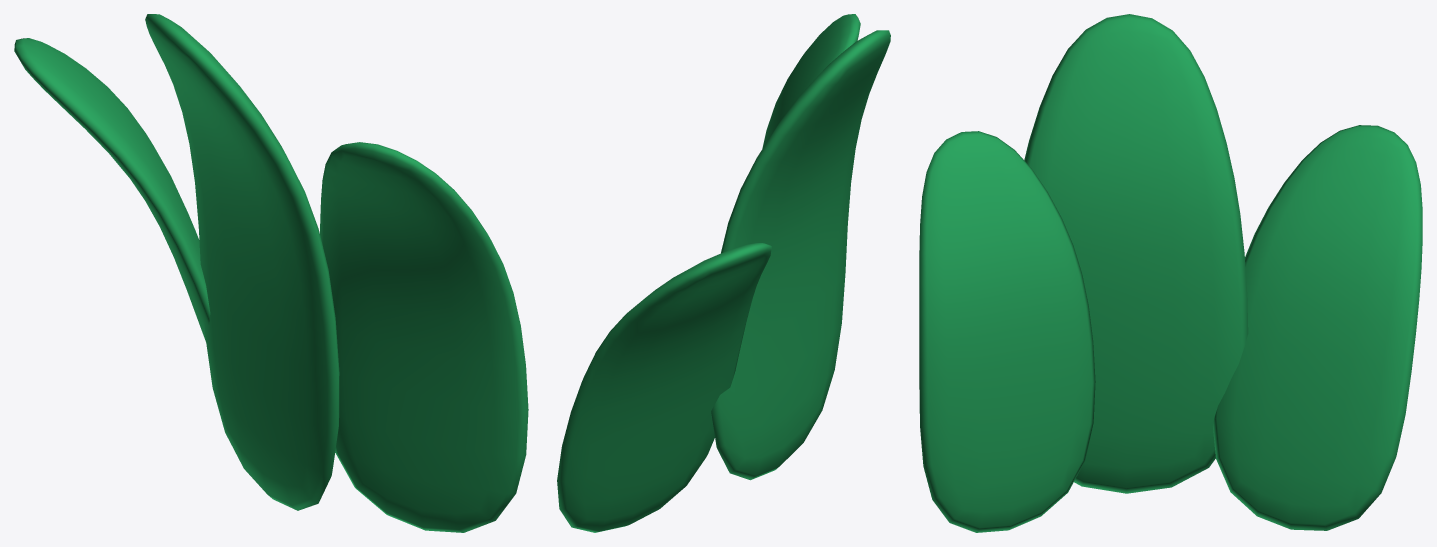
File: grass.fbx
The picture shows the model from 3 angles, left to right: view 1: azimuth 30°, elevation 25°; view 2: azimuth 150°, elevation 25°; view 3: azimuth 270°, elevation 25°; orthographic projection. The views are drawn at different scales.
Visible parts, largest first — view 1: Grass.009_Plane.021; view 2: Grass.009_Plane.021; view 3: Grass.009_Plane.021.
Boxes of the visible parts, <box> form: Grass.009_Plane.021: <box>14,14,528,532</box>; Grass.009_Plane.021: <box>557,14,890,532</box>; Grass.009_Plane.021: <box>919,14,1422,532</box>.
Bounding box in the file's own units: 17.16 × 33.19 × 34.35.
